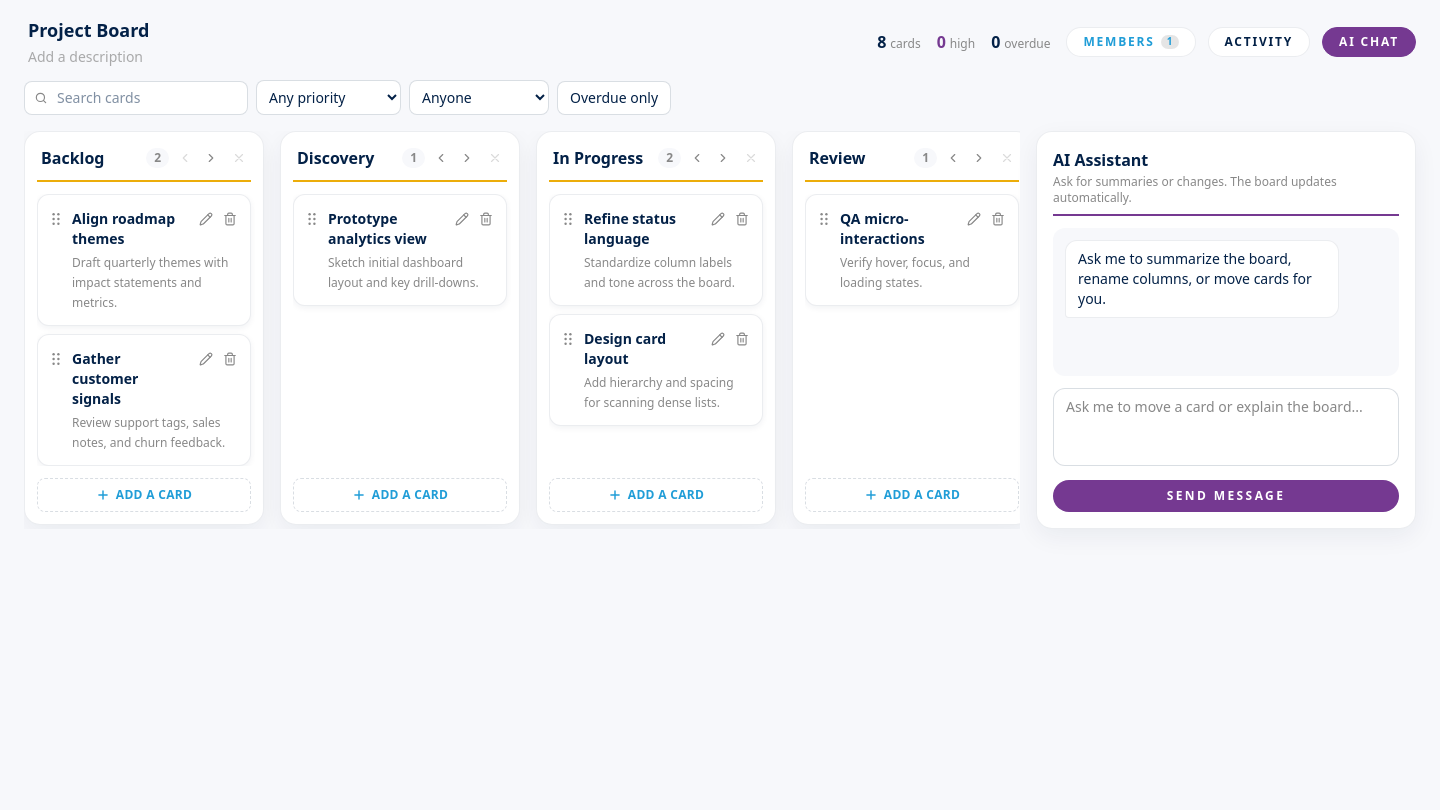
Test: KanbanBoard › adds and removes a card
Step 1. Click the button "Add a card" below "Gather customer signals" → (144, 495), box [37,478,251,512]
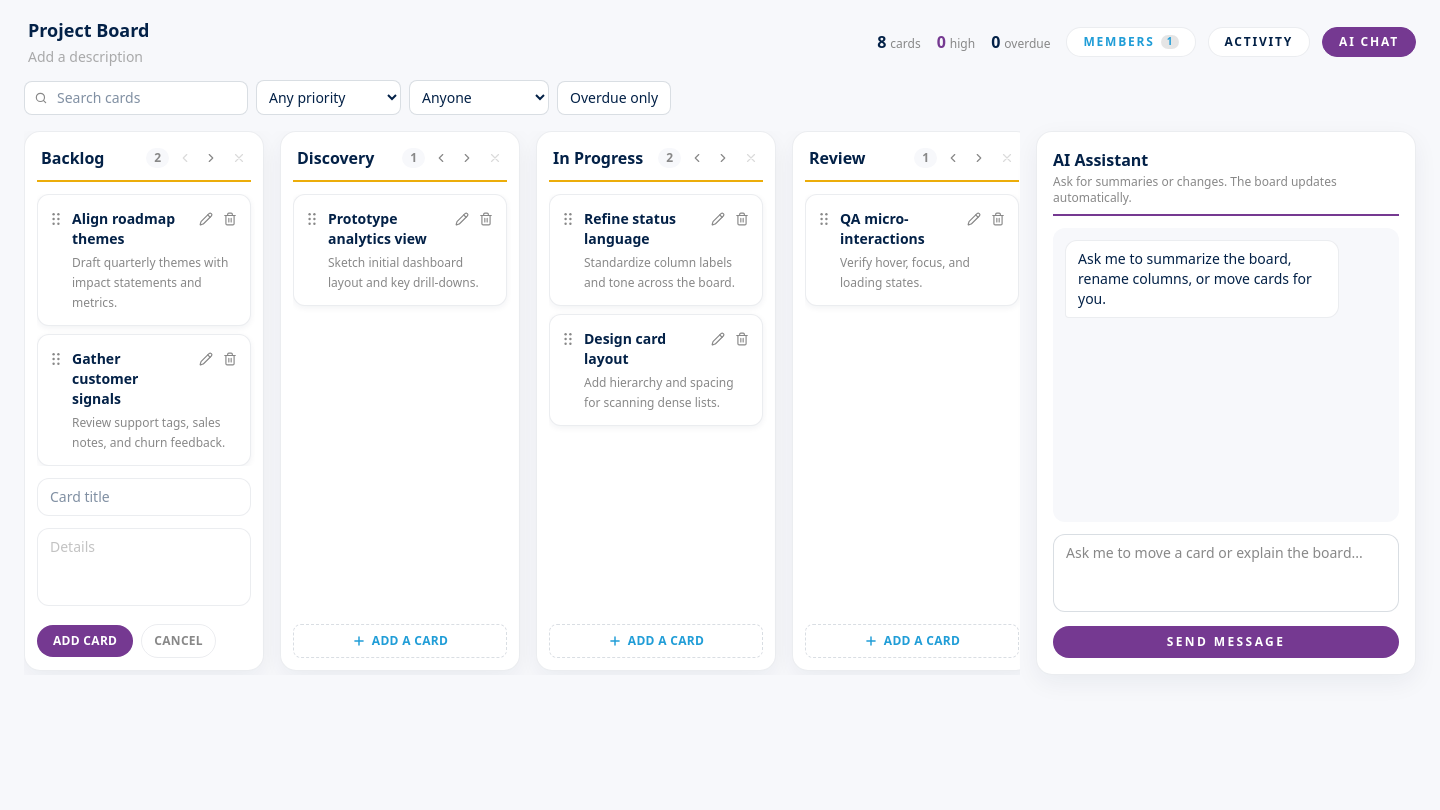
Step 2. Type "New card" into the field with placeholder "Card title" → (144, 497), box [37,478,251,516]
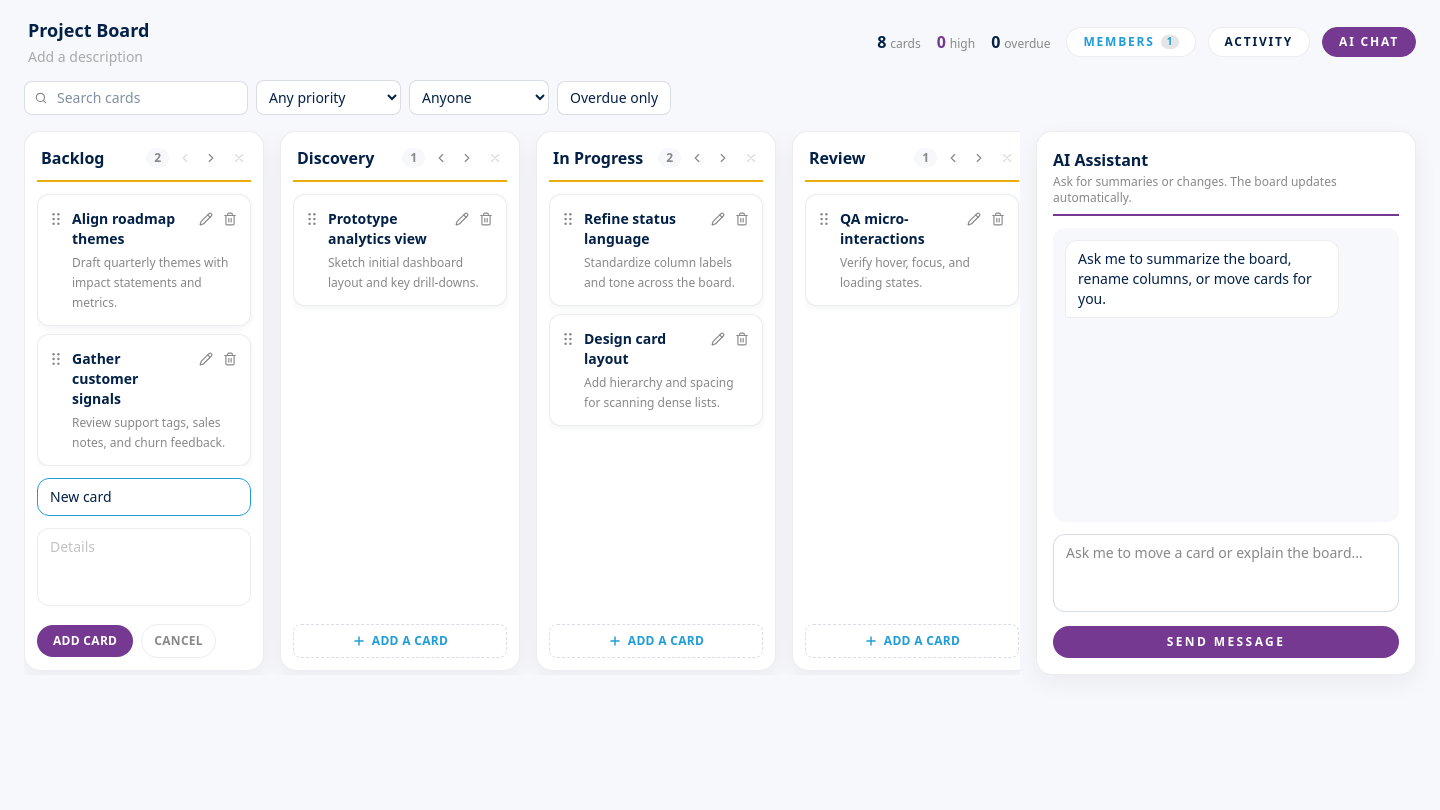
Step 3. Type "Notes" into the text box with placeholder "Details" → (144, 567), box [37,528,251,606]
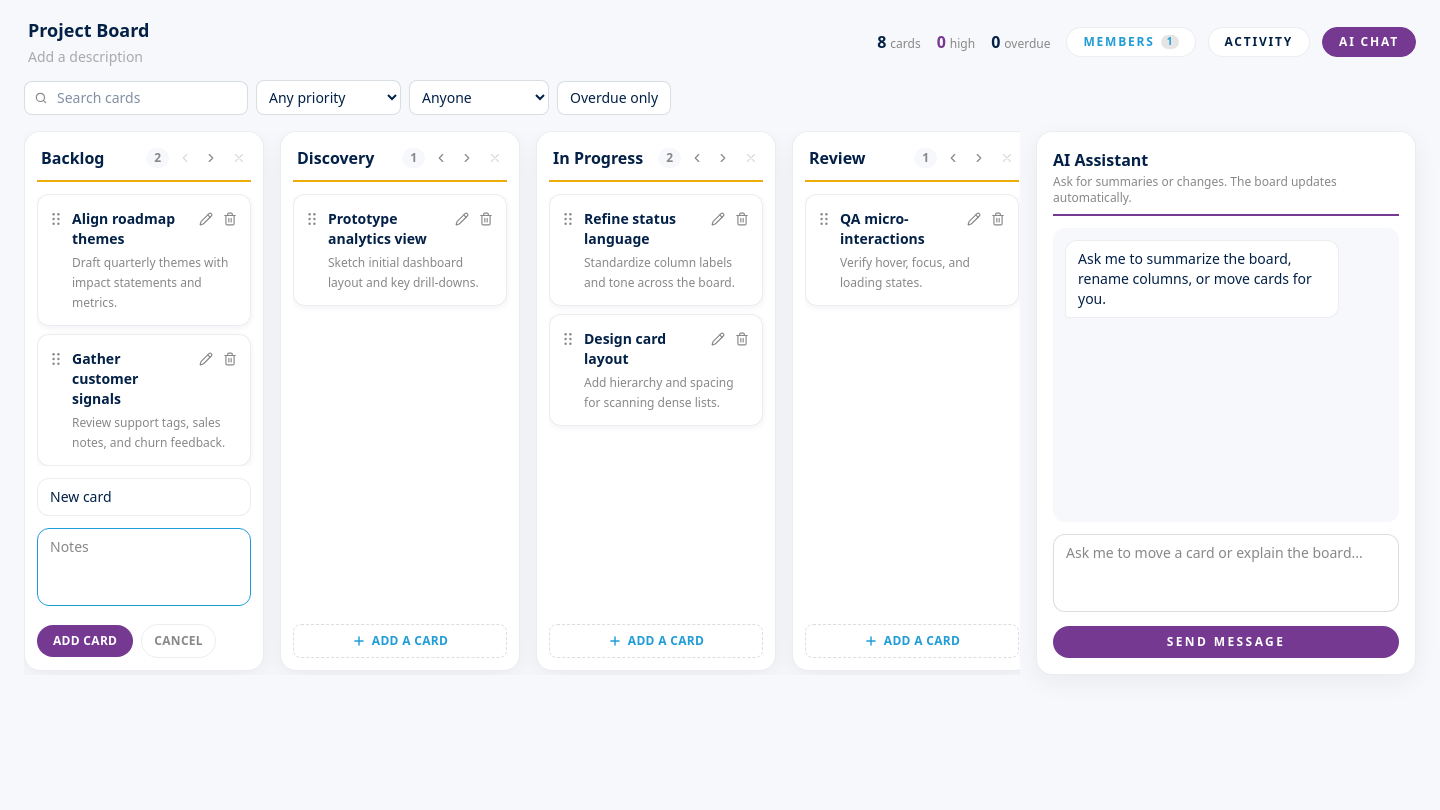
Step 4. Click the button "Add card" → (85, 641), box [37,625,133,657]
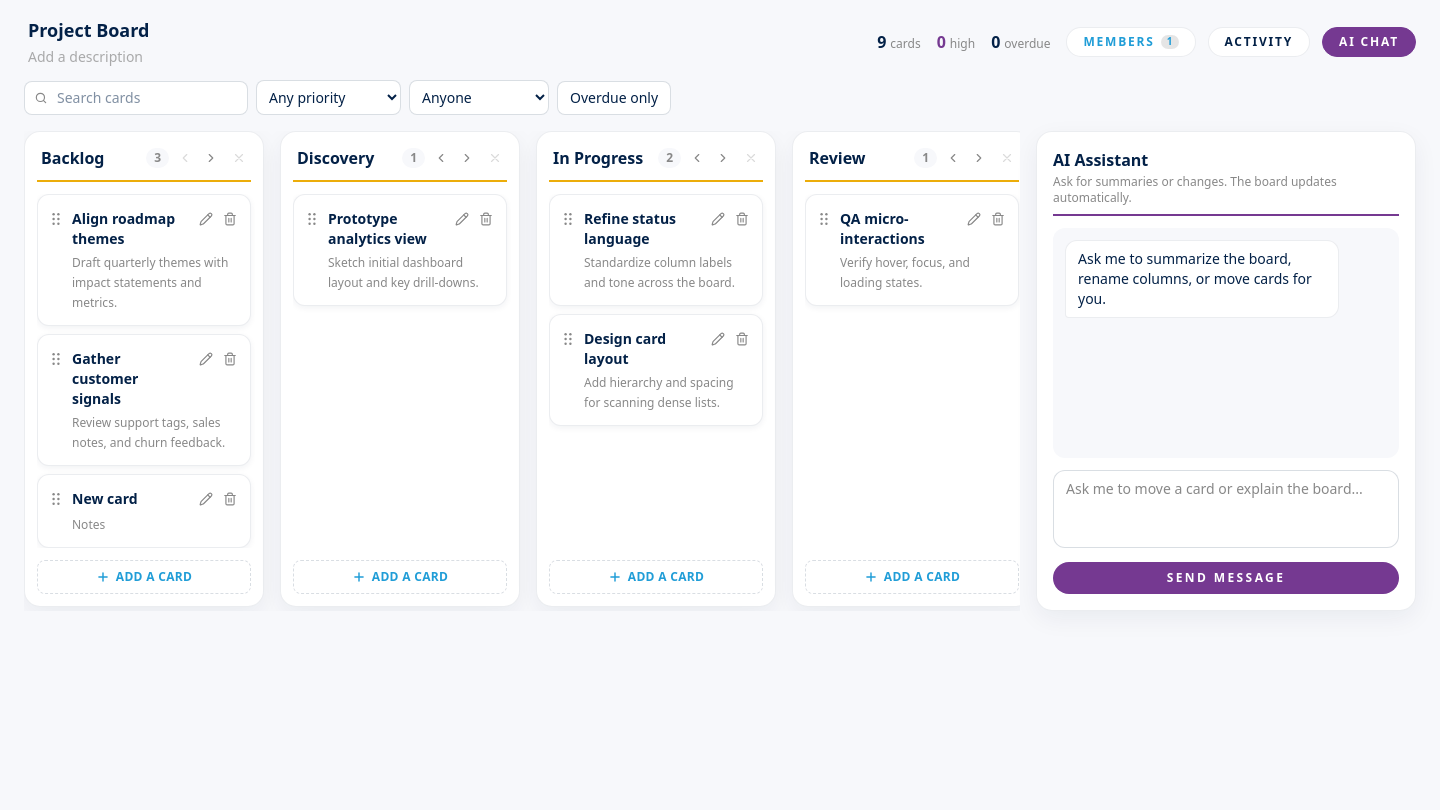
Expected: the heading "New card" is shown, [72,489,138,508]
Step 5. Click the button named "delete new card" → (230, 499), box [218,487,242,511]
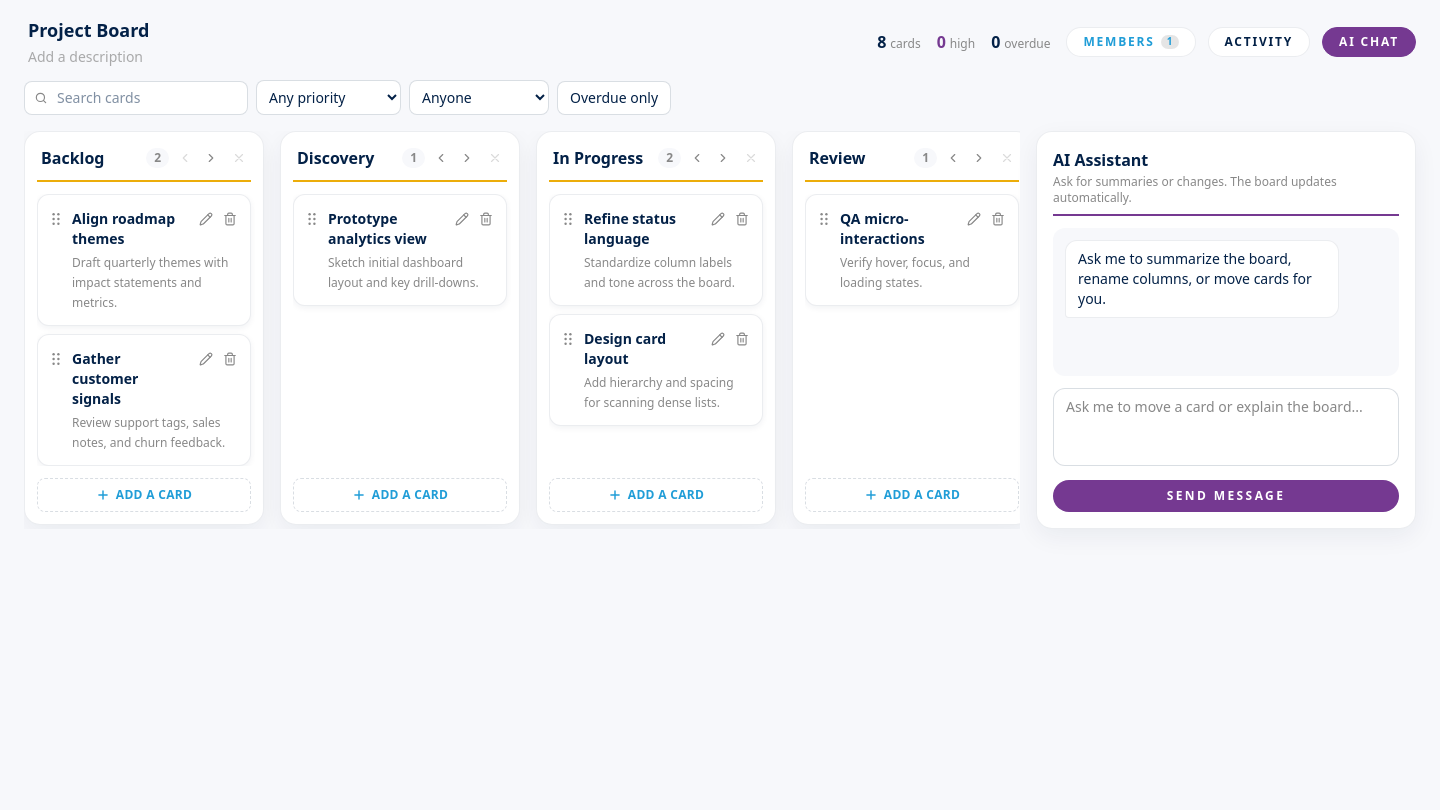
Expected: the heading "New card" is gone
Expected: the heading "New card" no longer shows "New card"
